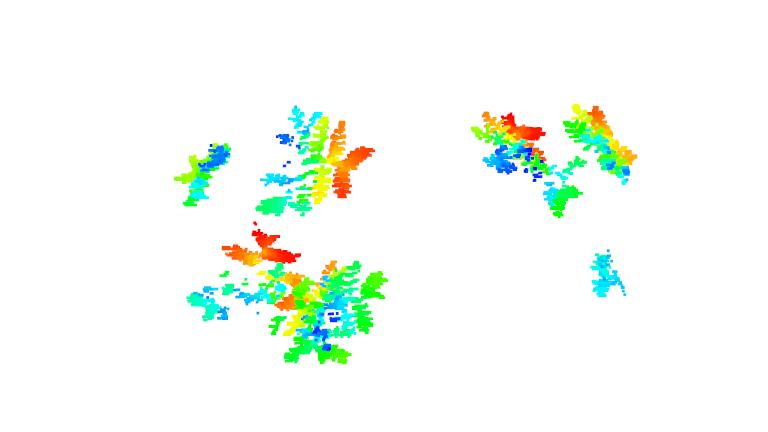chickpea: (257, 103, 375, 220), (471, 112, 585, 221), (279, 260, 390, 368), (185, 229, 304, 323), (564, 103, 637, 185), (174, 139, 230, 210), (590, 245, 623, 299)
